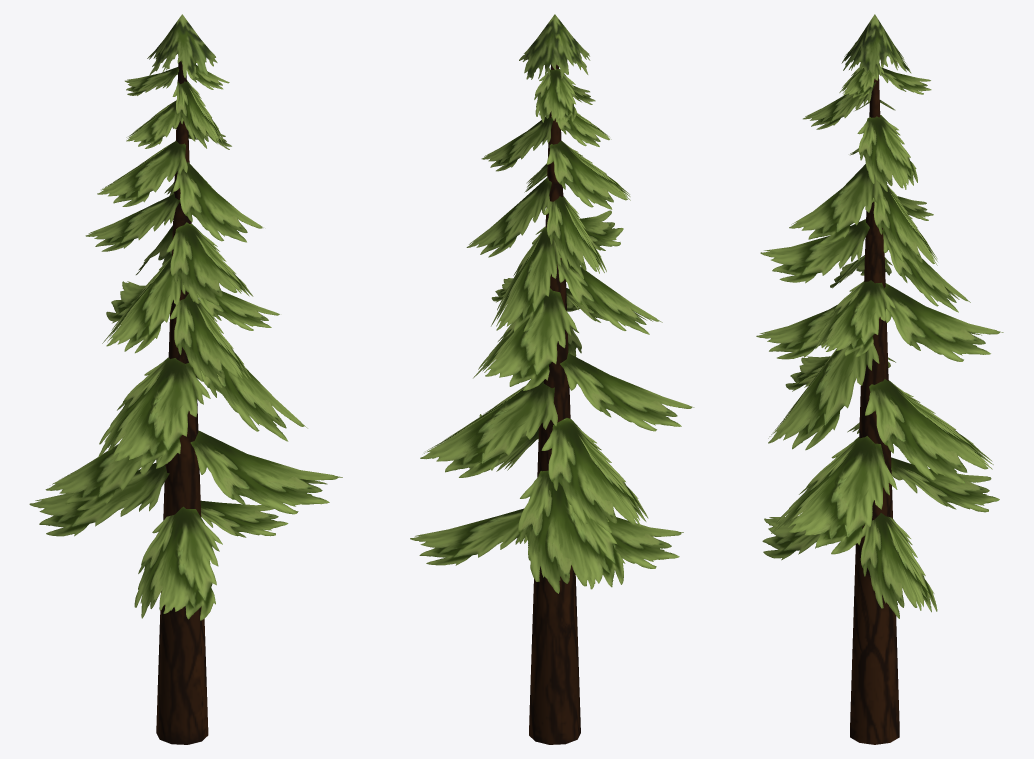
File: pine_1_less_faces.FBX
3 renders of one model, left to right at view 1: azimuth 30°, elevation 25°; view 2: azimuth 150°, elevation 25°; view 3: azimuth 270°, elevation 25°, orthographic.
Visible parts, largest first — view 1: Cylinder008, Plane153, Plane156, Plane150, Plane151, Plane154, Plane137, Plane144, Plane149, Plane147, Plane146, Plane139 (+8 smaller); view 2: Cylinder008, Plane151, Plane149, Plane148, Plane145, Plane153, Plane157, Plane152, Plane139, Plane144, Plane158, Cone006 (+7 smaller); view 3: Cylinder008, Plane150, Plane148, Plane146, Plane152, Plane145, Plane159, Plane137, Plane147, Plane140, Plane151, Plane138 (+9 smaller).
Part boxes in pixels (x1,y1,x2,y2): Cylinder008: [156, 61, 208, 744]; Plane153: [98, 357, 210, 468]; Plane156: [134, 506, 222, 620]; Plane150: [190, 430, 342, 514]; Plane151: [29, 463, 169, 536]; Plane154: [170, 293, 251, 388]; Plane137: [166, 222, 253, 305]; Plane144: [102, 257, 185, 353]; Plane149: [45, 444, 167, 510]; Plane147: [173, 162, 263, 242]; Plane146: [200, 363, 307, 441]; Plane139: [97, 141, 187, 206]; Cylinder008: [529, 64, 580, 744]; Plane151: [518, 470, 625, 593]; Plane149: [541, 418, 648, 532]; Plane148: [420, 381, 557, 477]; Plane145: [473, 288, 576, 390]; Plane153: [560, 353, 694, 431]; Plane157: [491, 227, 561, 332]; Plane152: [410, 508, 527, 565]; Plane139: [546, 140, 630, 209]; Plane144: [557, 259, 662, 334]; Plane158: [543, 196, 606, 279]; Cone006: [519, 14, 590, 79]; Cylinder008: [850, 76, 899, 744]; Plane150: [771, 436, 897, 554]; Plane148: [865, 379, 993, 483]; Plane146: [768, 344, 879, 450]; Plane152: [860, 513, 937, 618]; Plane145: [884, 283, 1003, 361]; Plane159: [815, 280, 895, 357]; Plane137: [760, 219, 869, 283]; Plane147: [789, 164, 883, 244]; Plane140: [857, 115, 917, 191]; Plane151: [891, 457, 999, 512]; Plane138: [872, 183, 937, 271].
Size of the model in its own units: 5.2 by 4.79 by 13.59.
